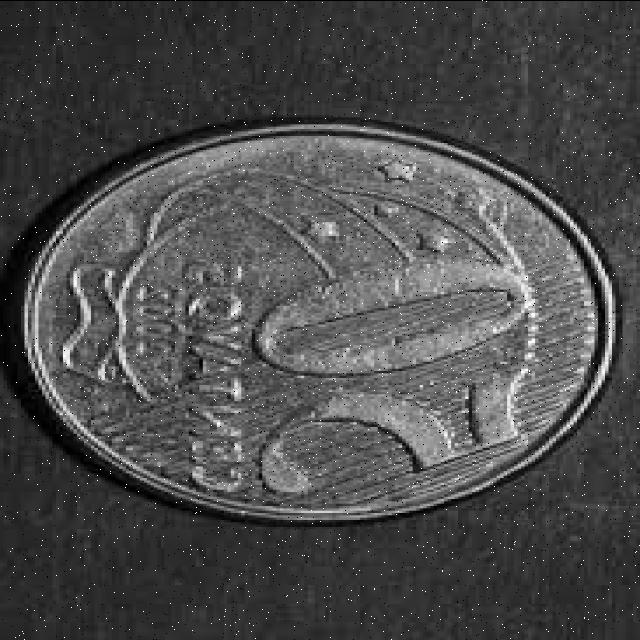50 cent: (34, 121, 620, 528)
